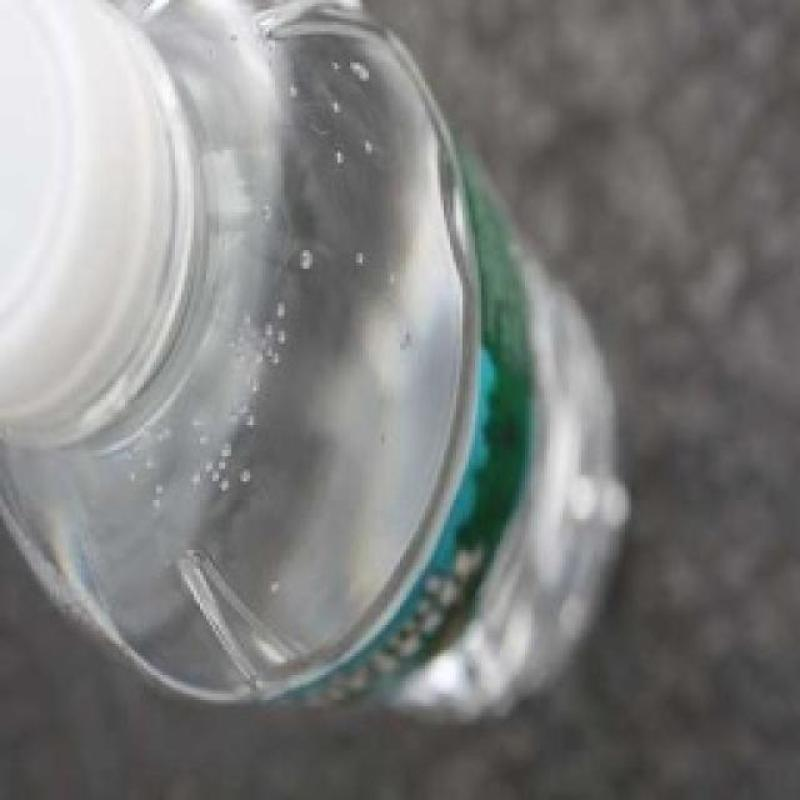botella: (0, 0, 625, 719)
